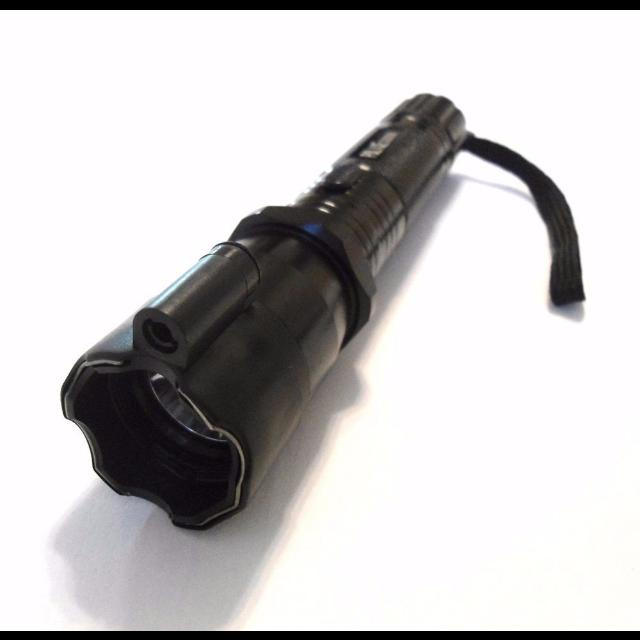Flashlight: (53, 84, 593, 538)
